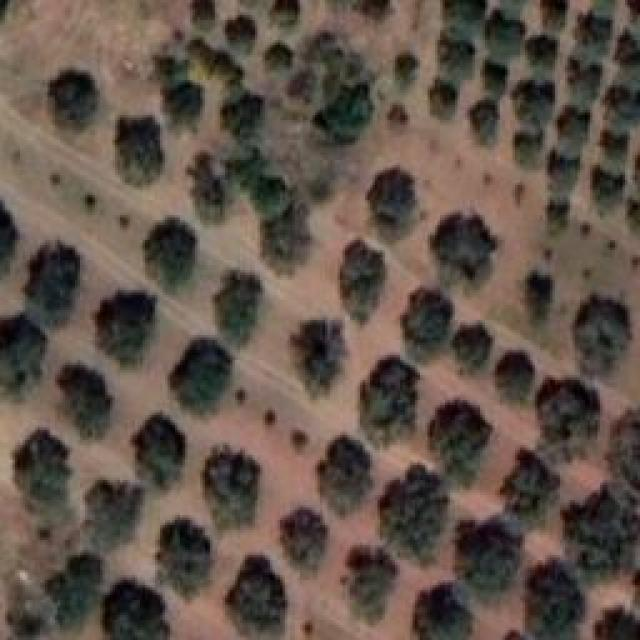Tree: (562, 483, 640, 573), (380, 465, 449, 565), (430, 400, 494, 487), (360, 355, 420, 445), (455, 515, 524, 593), (538, 377, 601, 462), (25, 240, 83, 325), (15, 430, 73, 515), (202, 445, 260, 528), (170, 337, 234, 412), (500, 448, 560, 528), (528, 560, 588, 640), (575, 295, 633, 377), (430, 213, 498, 280), (95, 293, 156, 367), (228, 555, 287, 631), (318, 435, 373, 515), (158, 518, 211, 599), (45, 553, 103, 626), (293, 320, 347, 398), (85, 480, 142, 553), (314, 83, 376, 150), (143, 217, 198, 292), (340, 240, 388, 325), (133, 414, 188, 488), (58, 365, 113, 438), (0, 315, 48, 398), (213, 270, 264, 347), (103, 580, 168, 640), (403, 288, 456, 361), (348, 545, 398, 622), (257, 205, 313, 273), (185, 149, 237, 219), (413, 582, 473, 640), (155, 58, 203, 126), (118, 117, 164, 187), (368, 168, 419, 228), (280, 508, 328, 571), (50, 70, 100, 128), (610, 410, 640, 490), (221, 89, 265, 138), (485, 10, 526, 62), (498, 350, 537, 403), (513, 83, 557, 129), (453, 324, 493, 374), (440, 32, 476, 82), (248, 178, 292, 218), (223, 142, 261, 188), (593, 165, 627, 213), (595, 607, 640, 640), (525, 273, 554, 324), (470, 98, 500, 145), (0, 200, 18, 275), (570, 58, 602, 100), (548, 150, 581, 190), (580, 15, 613, 55), (510, 125, 542, 166), (225, 15, 258, 53), (430, 78, 458, 120), (560, 108, 591, 144), (288, 70, 318, 105), (443, 0, 486, 23), (600, 128, 631, 159), (527, 40, 557, 71), (395, 53, 420, 90), (615, 30, 640, 67), (485, 60, 509, 98), (265, 43, 295, 70), (273, 0, 299, 27), (548, 200, 571, 230), (355, 0, 391, 18), (608, 85, 631, 110), (193, 0, 217, 22), (388, 103, 407, 125), (292, 430, 310, 452), (265, 410, 275, 426)
